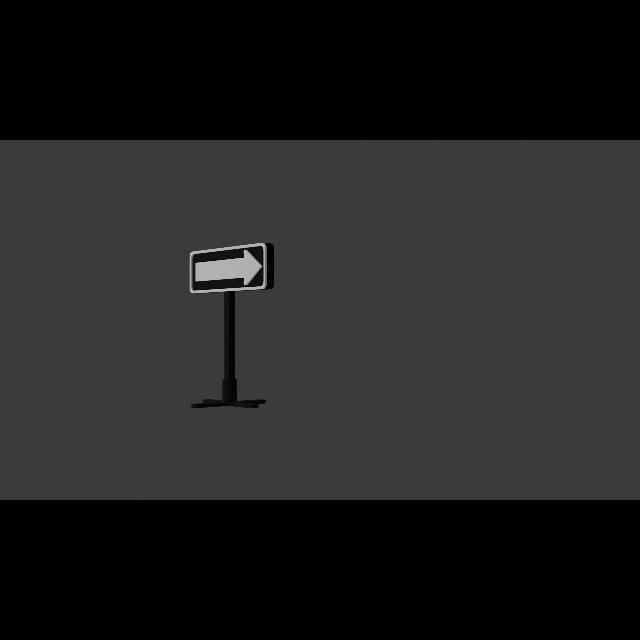sign_oneway_right: (191, 243, 274, 293)
